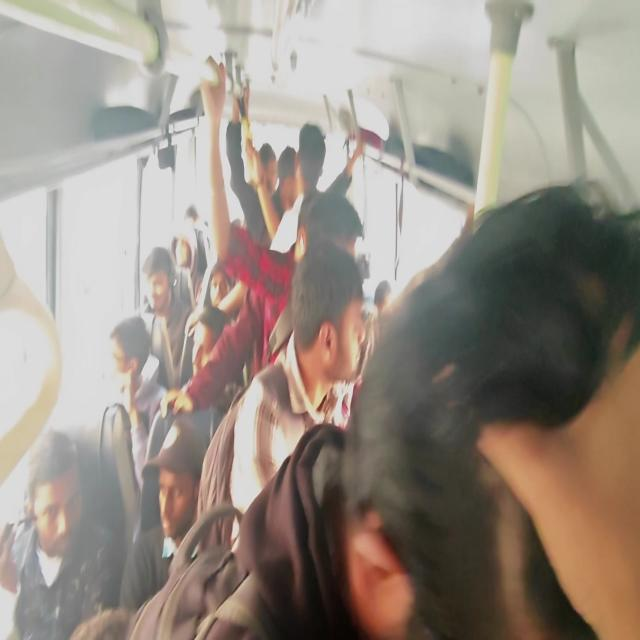person: (351, 276, 640, 639), (12, 413, 107, 608), (294, 234, 353, 399), (111, 296, 154, 396), (154, 453, 200, 538), (130, 250, 182, 320), (312, 188, 344, 262), (259, 150, 290, 217), (280, 145, 310, 210), (358, 246, 388, 309), (296, 140, 325, 198), (169, 223, 199, 273), (193, 321, 219, 375), (368, 285, 395, 323), (212, 270, 228, 306), (184, 204, 201, 237)
